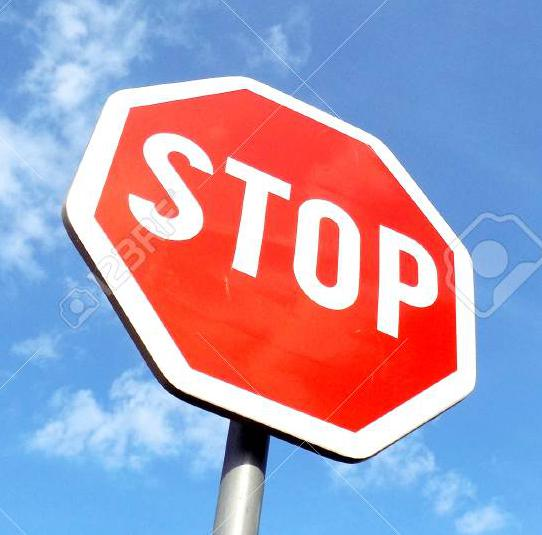Stop sign: (0, 0, 541, 534)
